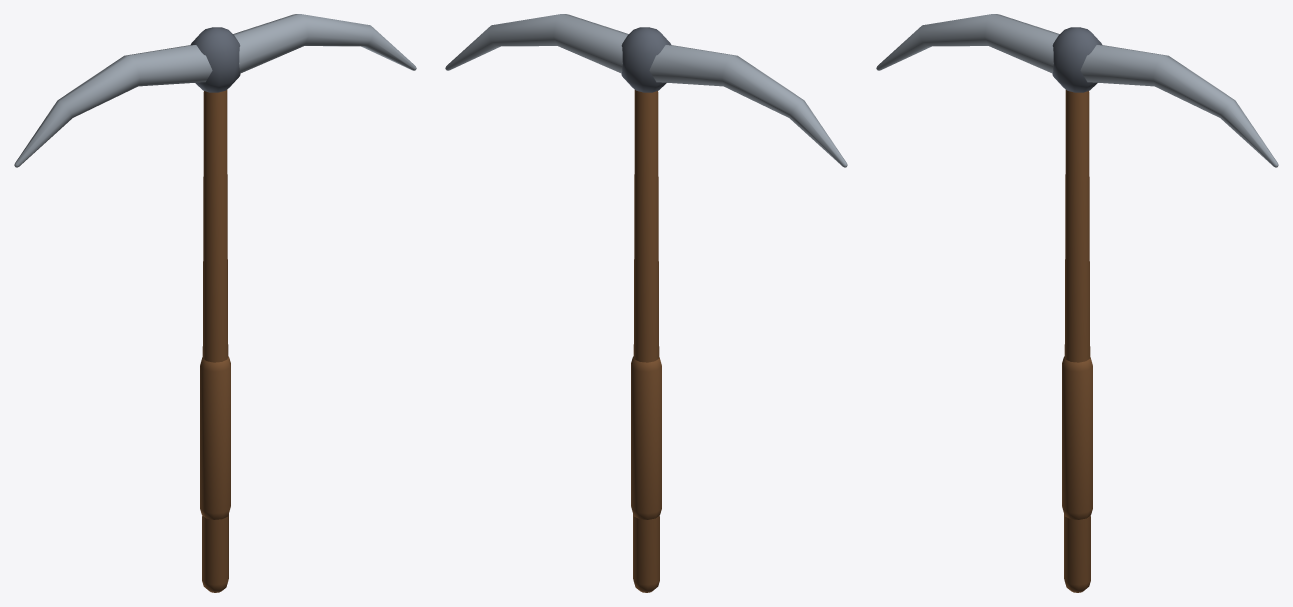
File: pickaxe.glb
3 views of the same model, side by side, from view 1: azimuth 30°, elevation 25°; view 2: azimuth 150°, elevation 25°; view 3: azimuth 330°, elevation 25° (orthographic).
Visible parts, largest first — view 1: wood, steel, steeldark; view 2: wood, steel, steeldark; view 3: wood, steel, steeldark.
Part boxes in pixels (x1,y1,x2,y2): wood: (200, 90, 230, 592); steel: (14, 14, 416, 167); steeldark: (190, 27, 240, 92); wood: (631, 90, 661, 592); steel: (445, 14, 847, 167); steeldark: (621, 27, 671, 92); wood: (1062, 90, 1092, 592); steel: (876, 14, 1278, 167); steeldark: (1052, 27, 1102, 92).
Bounding box in the file's own units: 1.34 × 1.79 × 0.1427.
